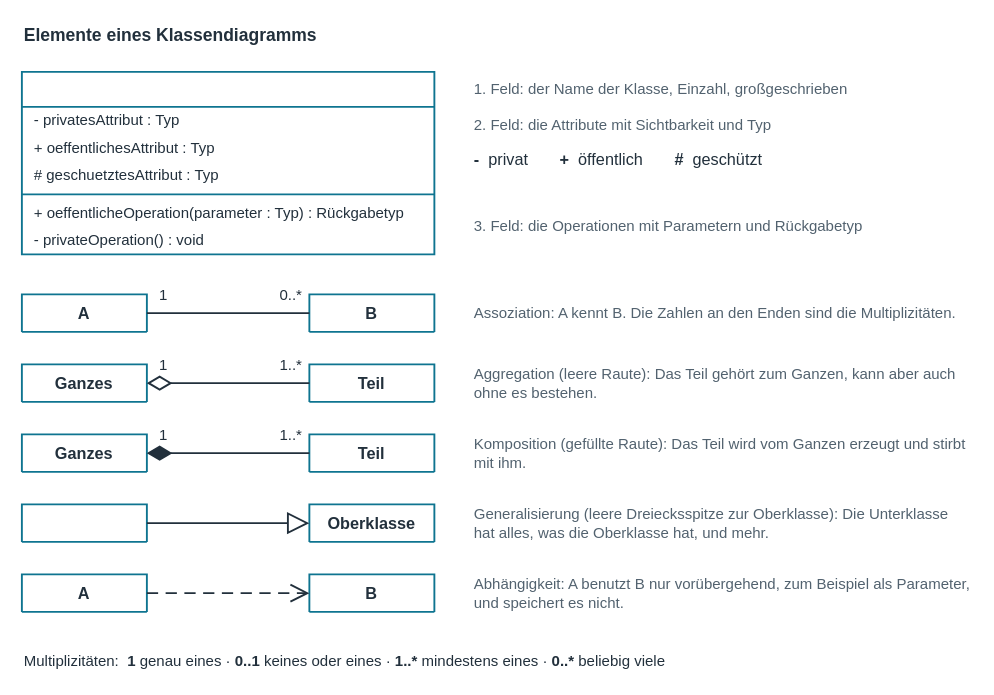
Image size: 994x695. Some labels were removed from this diagram. Each missing label, with the box of its shape:
Klassenname: (20, 70, 435, 255)
Unterklasse: (20, 503, 147, 542)
